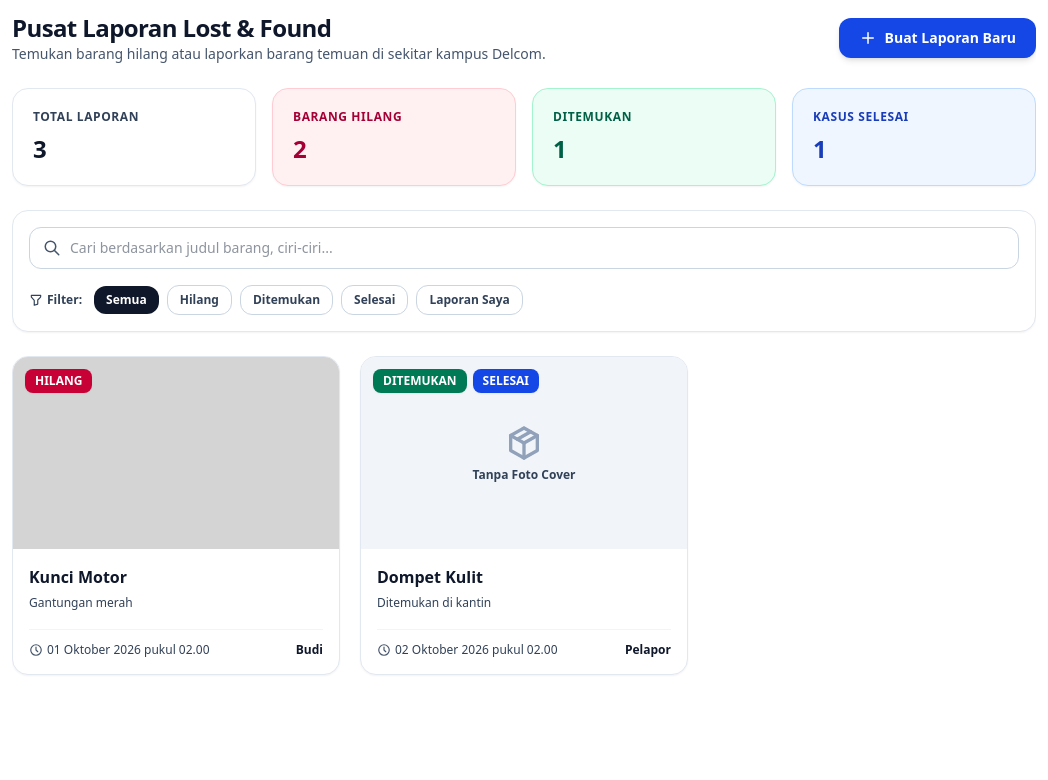
Scenario: HomePage › should show empty state when nothing matches
Type "tidak-ada-barang-ini" into the field named "Cari barang hilang atau temuan" at (524, 248), box [29, 227, 1019, 269]
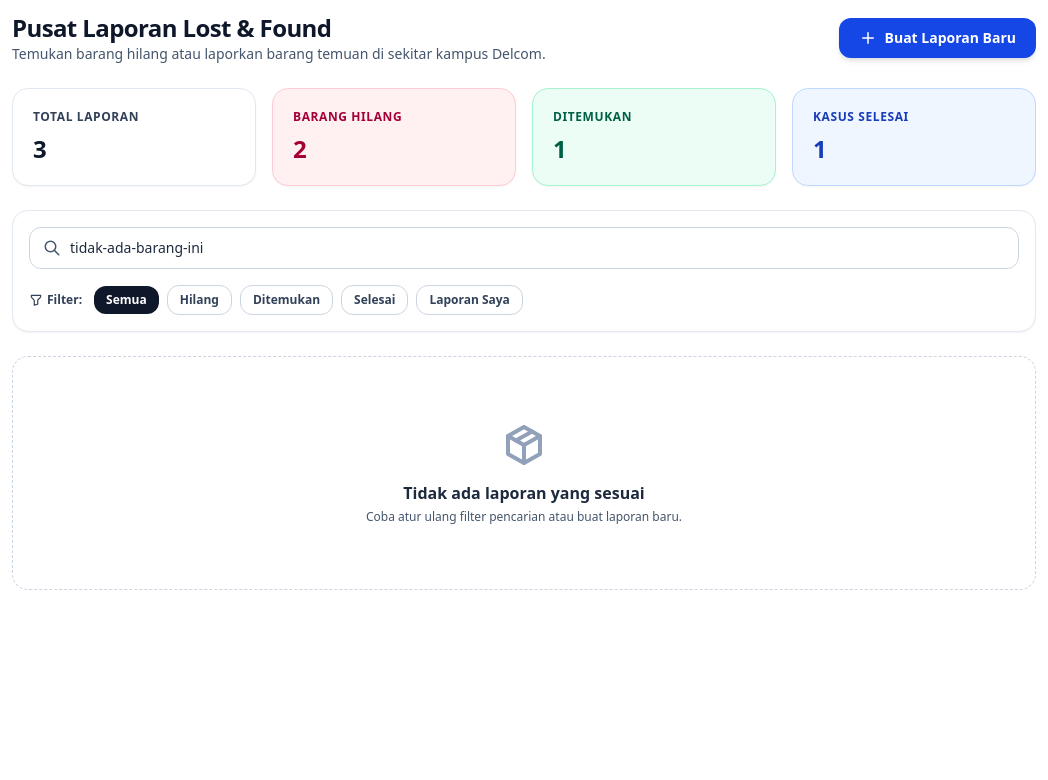
Check: the text "Tidak ada laporan yang sesuai" is shown, box [403, 481, 645, 505]
